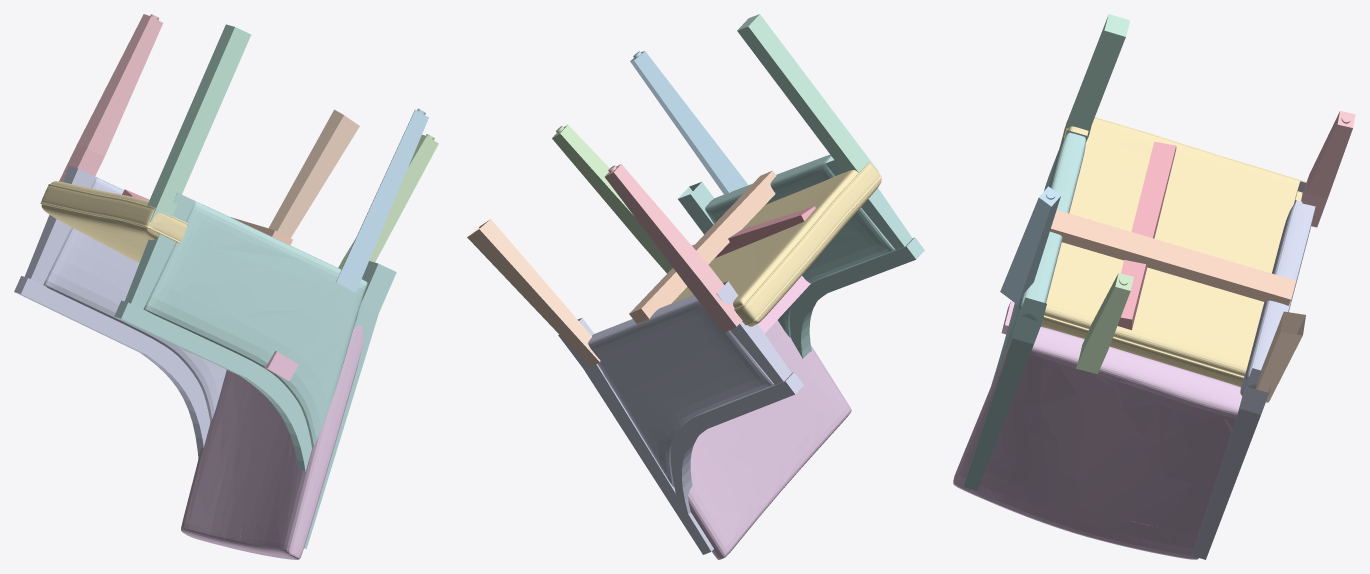
Rendered from 0c409bce_colored.glb.
The picture shows the model from 3 angles, left to right: view 1: azimuth 30°, elevation 25°; view 2: azimuth 150°, elevation 25°; view 3: azimuth 270°, elevation 25°; orthographic projection. The views are drawn at different scales.
Parts seen in each view (by area): view 1: world; view 2: world; view 3: world.
Boxes of the visible parts, x1,y1,x2,y2 form: world: [14, 14, 438, 559]; world: [467, 14, 924, 559]; world: [953, 14, 1355, 559].
Bounding box in the file's own units: 0.6613 × 0.9637 × 0.644.
